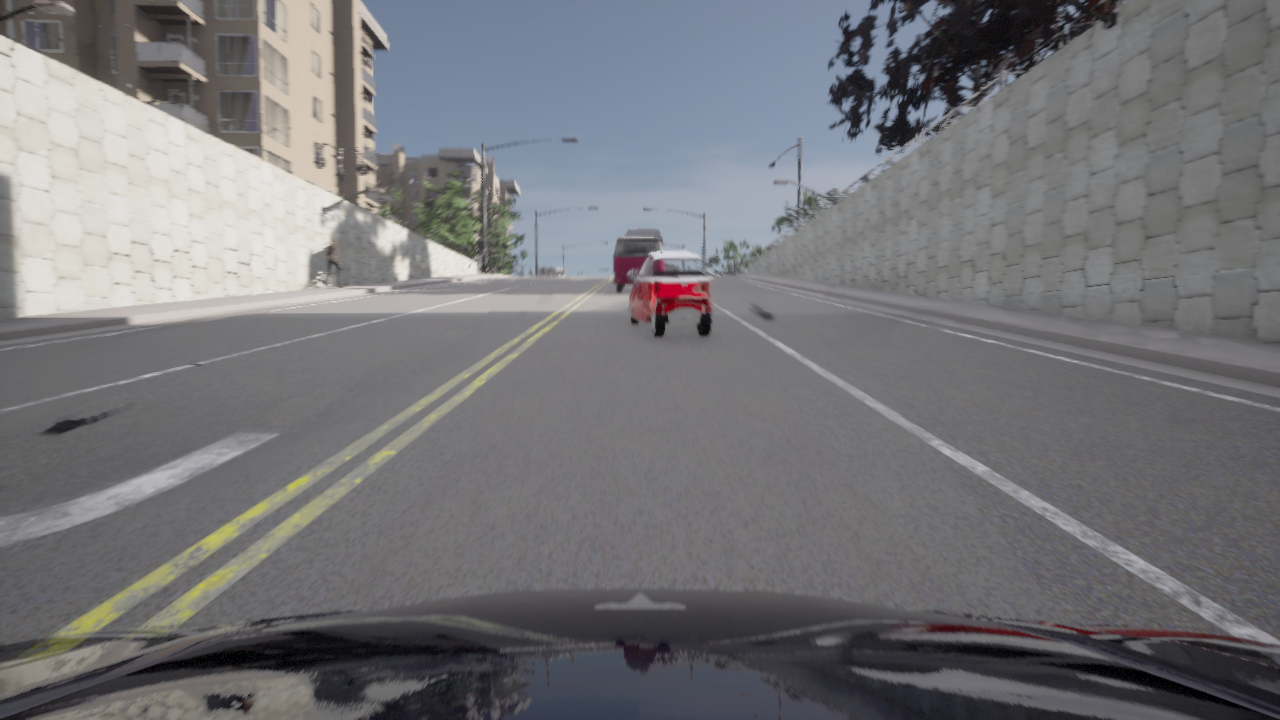cyclist: (0, 588, 1279, 719), (627, 250, 712, 337), (614, 236, 662, 292), (625, 229, 660, 238)
pedestrian: (322, 238, 342, 287), (732, 260, 737, 273)
